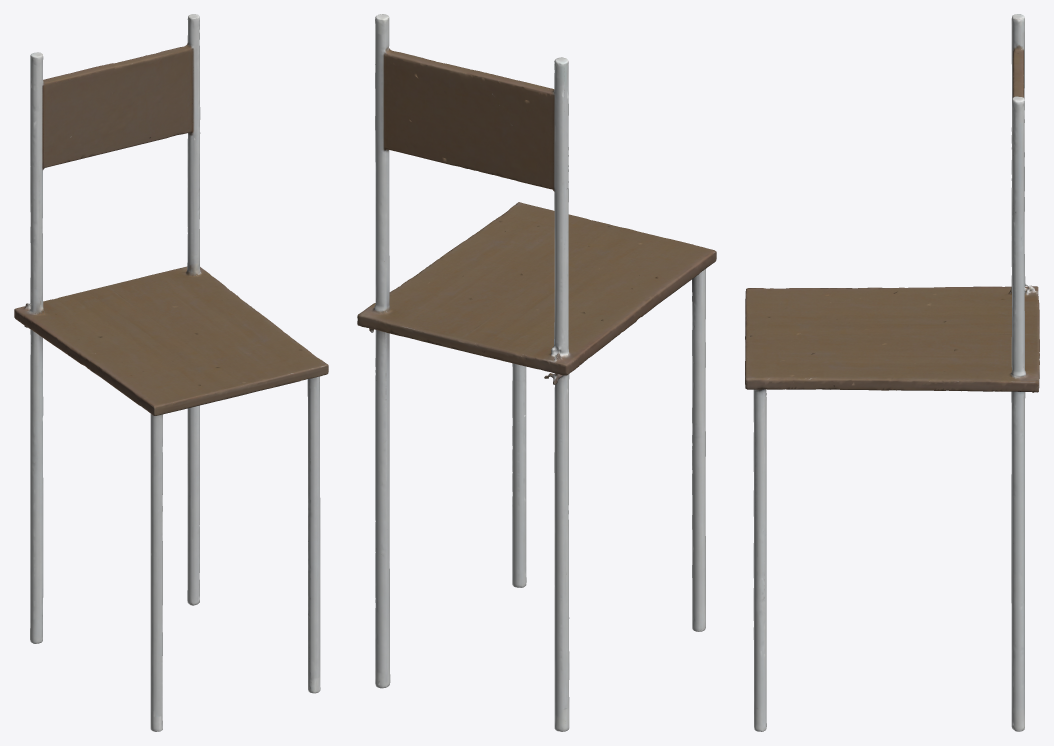
The model's file is chair.glb.
3 views of the same model, side by side, from view 1: azimuth 30°, elevation 25°; view 2: azimuth 150°, elevation 25°; view 3: azimuth 270°, elevation 25° (orthographic). The views are drawn at different scales.
Bounding box in the file's own units: 0.6548 × 2 × 0.8471.
1 material, 1 textured.
